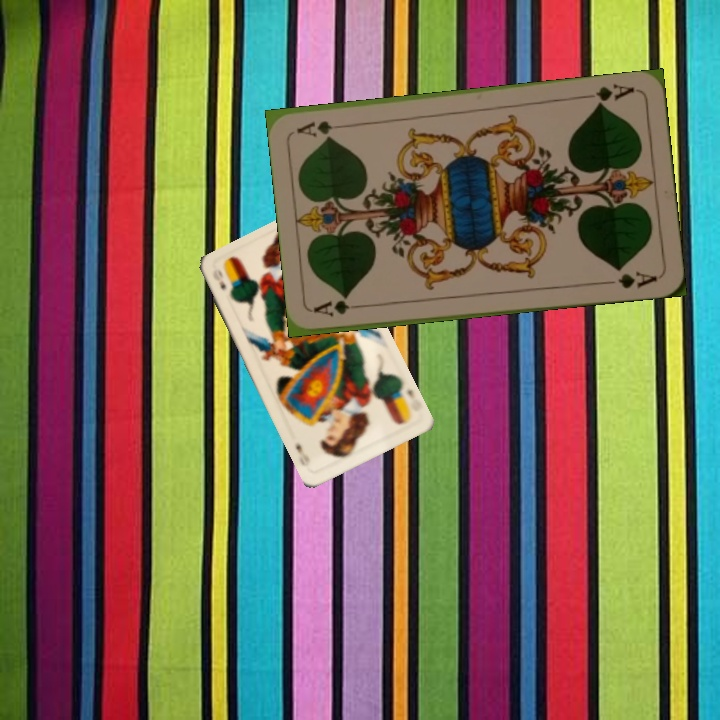EO: (395, 382, 424, 414), (208, 264, 229, 293)
GA: (580, 80, 637, 109), (311, 296, 370, 319)
